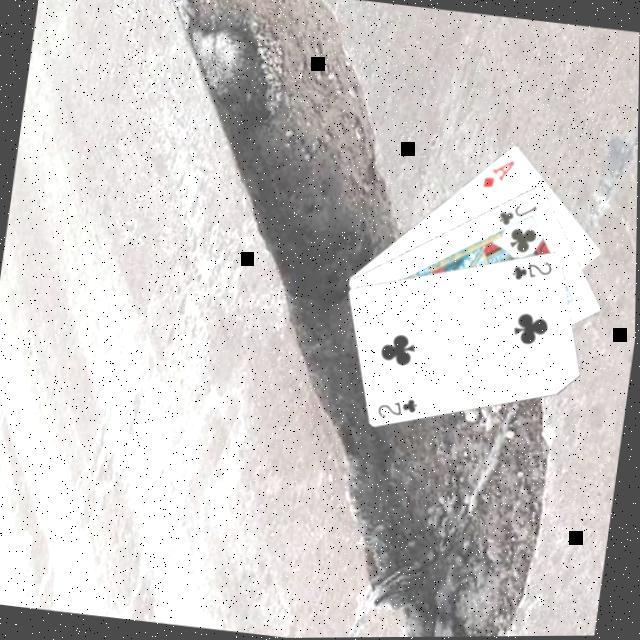2C: (371, 392, 420, 426), (506, 256, 554, 288)
AD: (477, 155, 516, 195)
JC: (492, 199, 538, 234)
